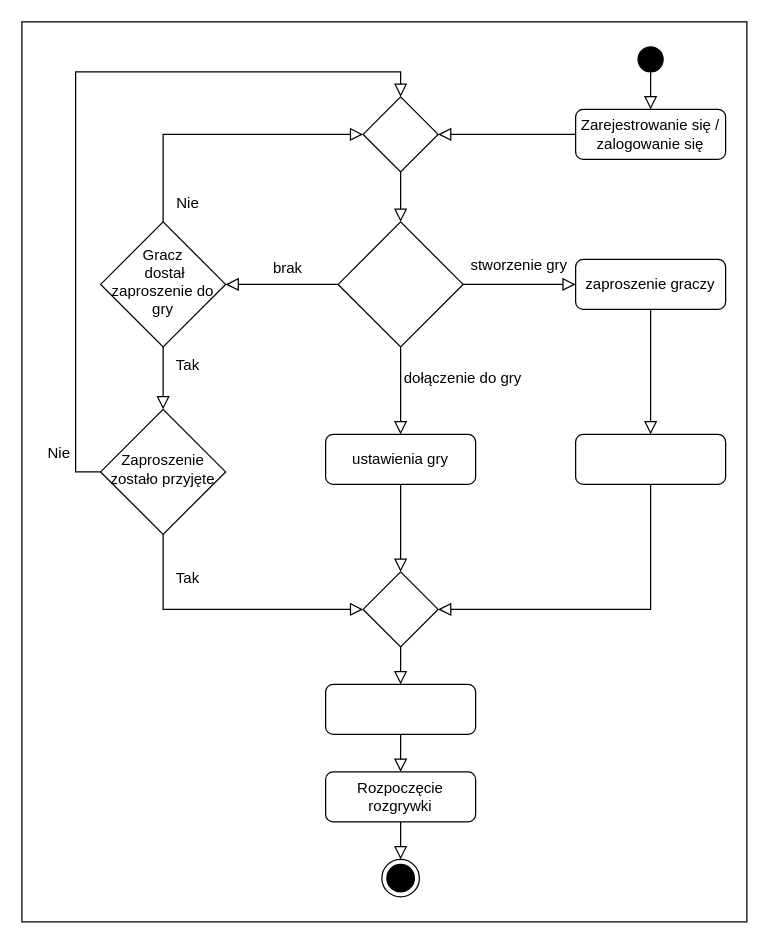
This 769x944 diagram has some shape labels left out. The shapes that lost their labels are listed below. From the top down, each one's centre as x and y in pixels, then its label:
[400,284]: Sposób rozpoczęcia gry
[650,458]: ustawienie czasu
[400,708]: Oczekiwanie na pozostałych
